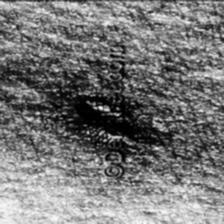Non-Cancerous Skin Condition: (67, 86, 149, 148)
